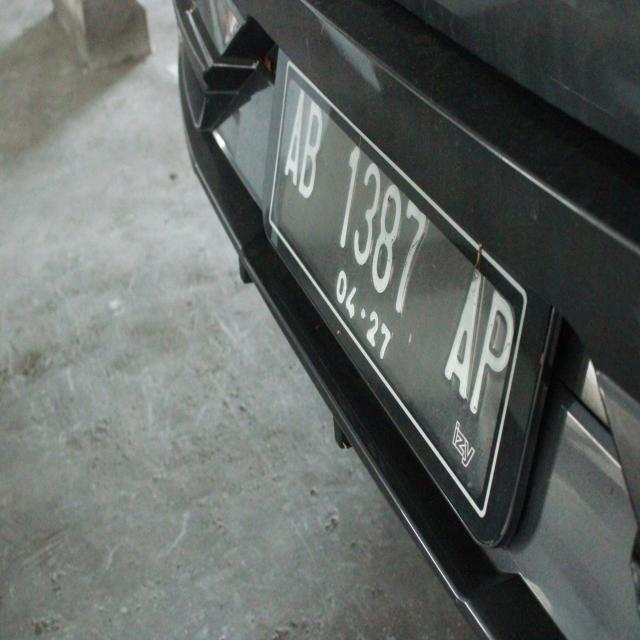1: (334, 134, 360, 254)
3: (350, 155, 382, 273)
7: (394, 182, 426, 329)
8: (371, 179, 398, 306)
A: (438, 251, 479, 401), (286, 78, 302, 188)
B: (296, 91, 324, 207)
P: (466, 286, 524, 433)
